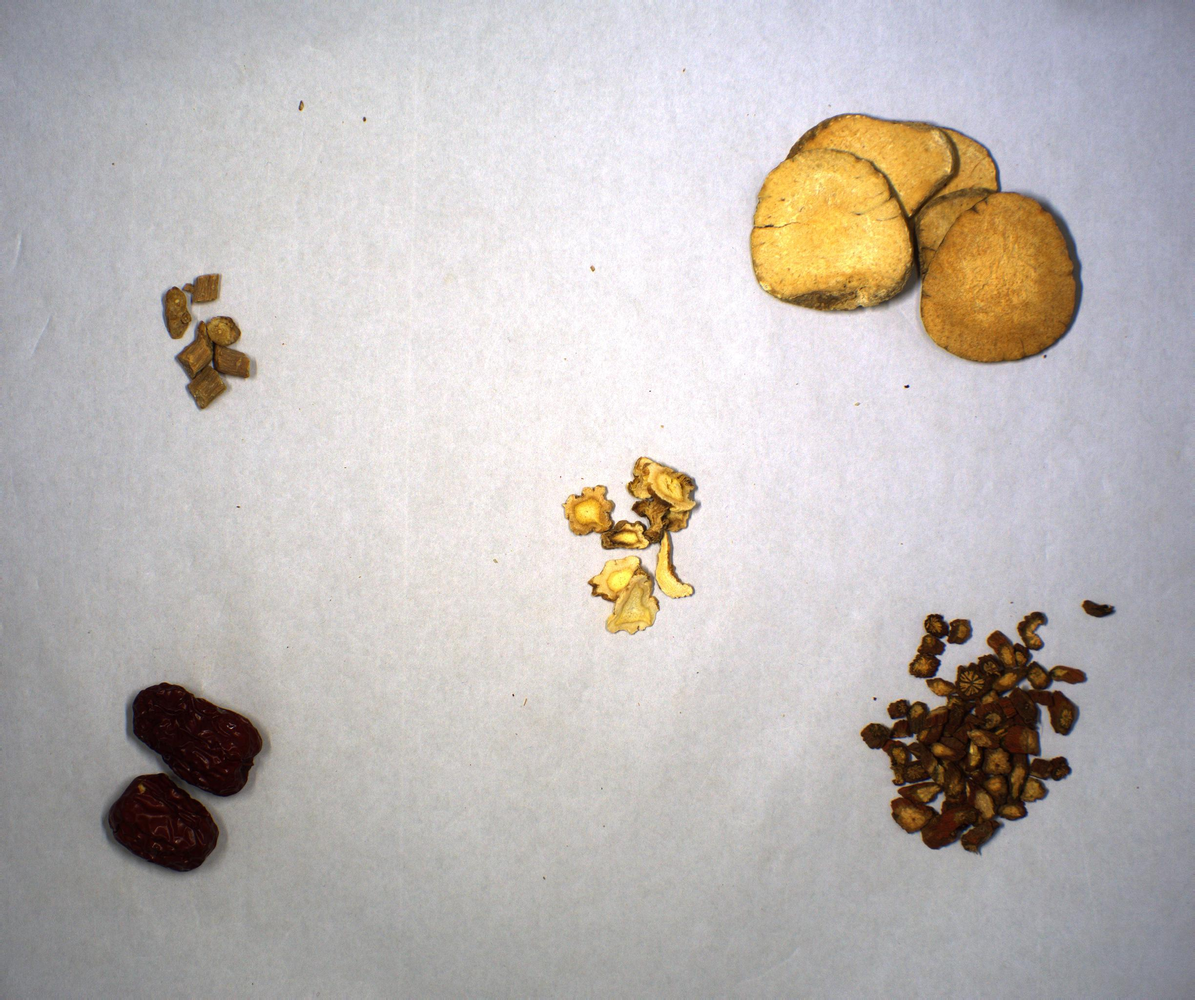danshen: (860, 598, 1117, 856)
dazao: (103, 683, 267, 875)
jiegeng: (562, 455, 701, 638)
niuxi: (164, 272, 257, 411)
zexie: (747, 112, 1087, 368)
